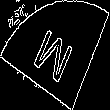M_SW: (31, 21, 79, 89)
